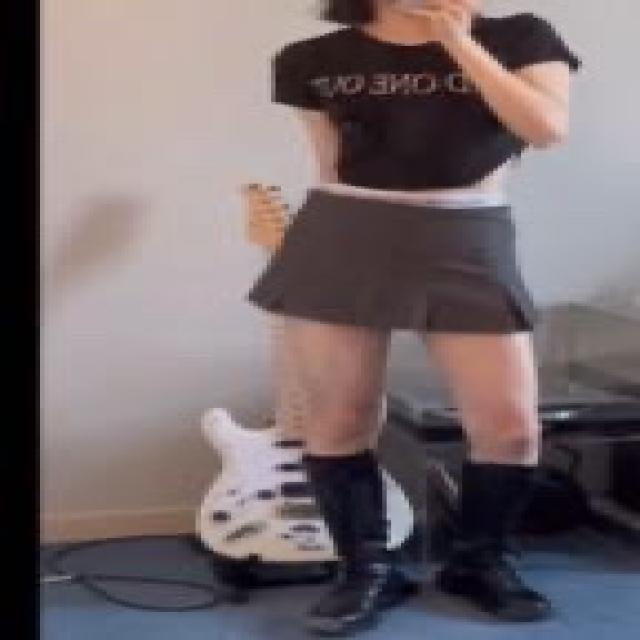shortsleeve: (272, 13, 584, 190)
skirt: (247, 184, 543, 334)
